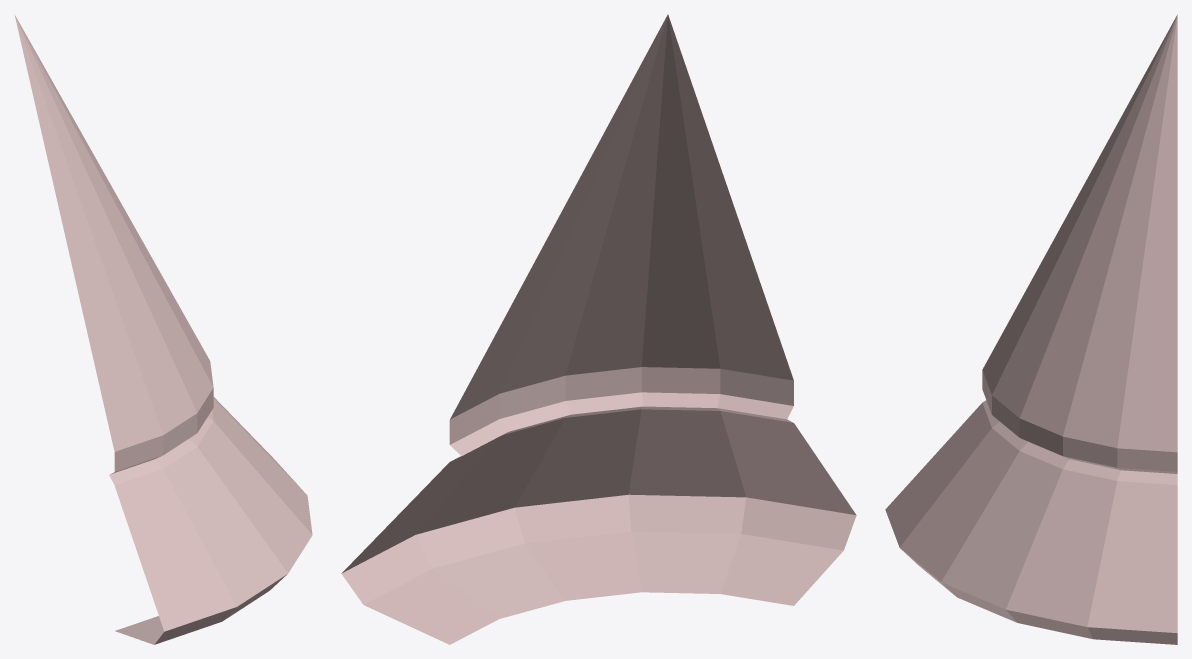
File: castle_tower_big_top.fbx
3 views of the same model, side by side, from view 1: azimuth 30°, elevation 25°; view 2: azimuth 150°, elevation 25°; view 3: azimuth 270°, elevation 25° (orthographic). The views are drawn at different scales.
Parts seen in each view (by area): view 1: castle_tower_big_top; view 2: castle_tower_big_top; view 3: castle_tower_big_top.
Part boxes in pixels (<box>): castle_tower_big_top: <box>14,14,312,644</box>; castle_tower_big_top: <box>341,14,856,644</box>; castle_tower_big_top: <box>885,14,1177,644</box>.
Size of the model in its own units: 24.28 by 48.59 by 24.28.
